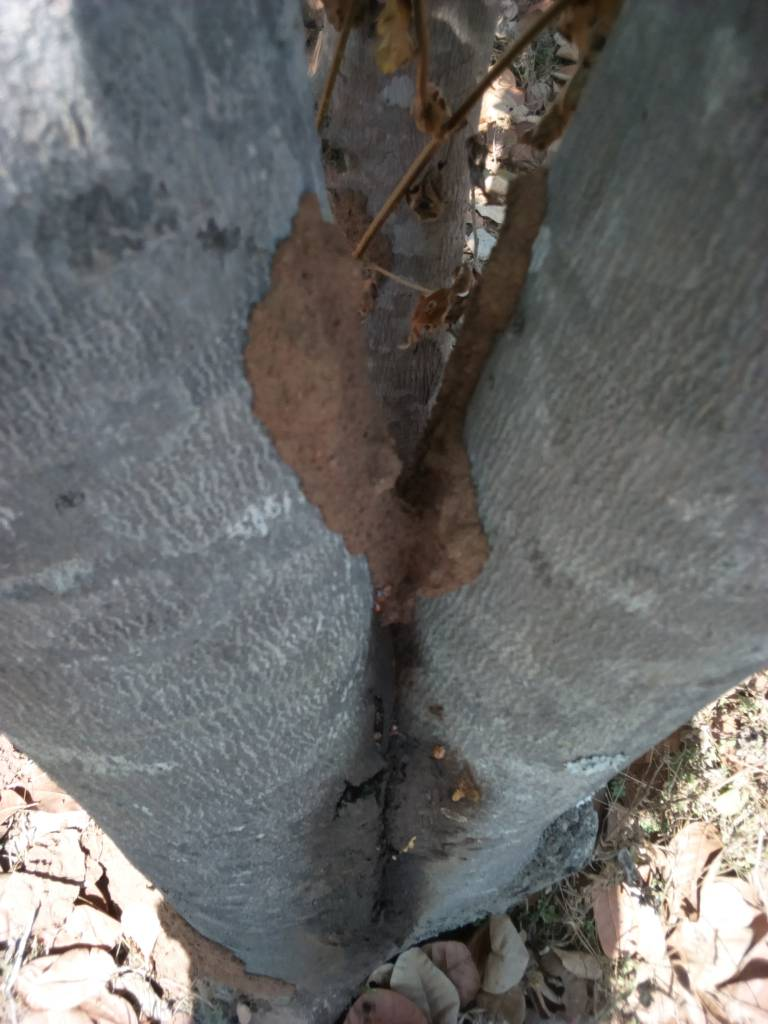Termites: (241, 180, 538, 597)
